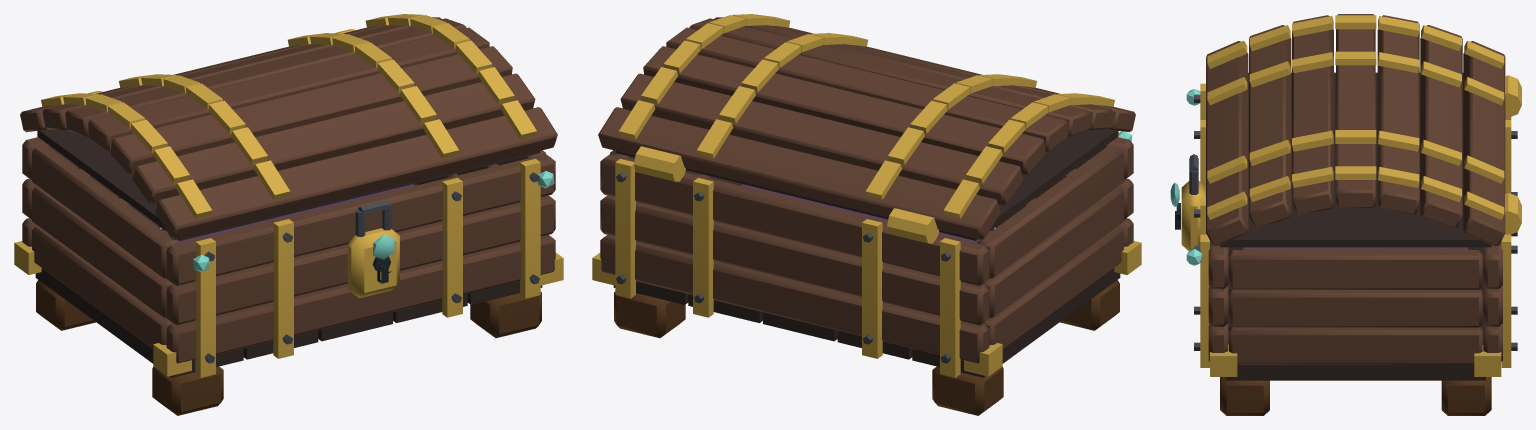
Rendered from chest_gold.glb.
3 views of the same model, side by side, from view 1: azimuth 30°, elevation 25°; view 2: azimuth 150°, elevation 25°; view 3: azimuth 270°, elevation 25° (orthographic). The views are drawn at different scales.
Parts seen in each view (by area): view 1: chest_gold, lid; view 2: chest_gold, lid; view 3: lid, chest_gold.
Boxes of the visible parts, x1,y1,x2,y2 form: chest_gold: [14, 29, 563, 415]; lid: [20, 14, 557, 240]; chest_gold: [592, 131, 1141, 415]; lid: [598, 14, 1135, 240]; lid: [1206, 14, 1505, 247]; chest_gold: [1170, 75, 1521, 415].
Size of the model in its own units: 1.22 by 0.736 by 0.985.
